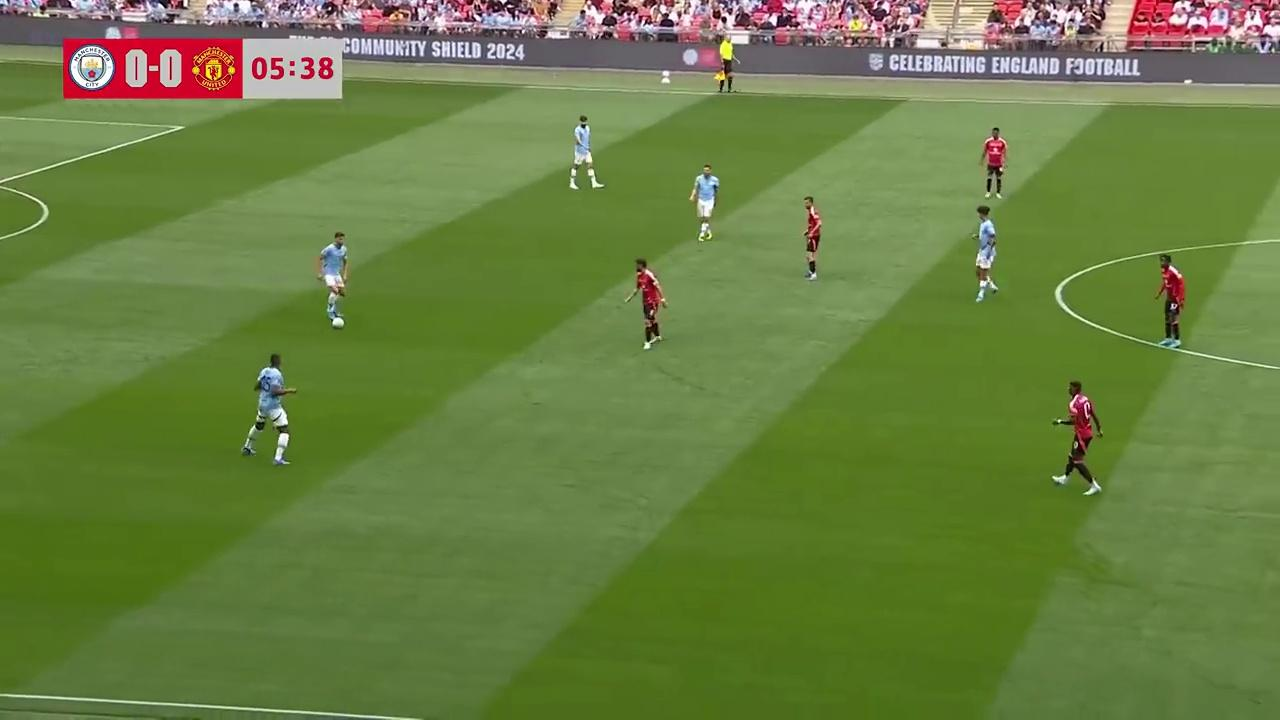ball: (332, 312, 345, 329)
player: (1049, 381, 1103, 497), (239, 352, 295, 463), (623, 258, 667, 350), (1154, 253, 1185, 350), (316, 237, 346, 329), (569, 115, 604, 190), (689, 163, 720, 242), (973, 206, 998, 302), (980, 127, 1008, 199), (802, 196, 822, 281)
referee: (714, 36, 737, 94)
